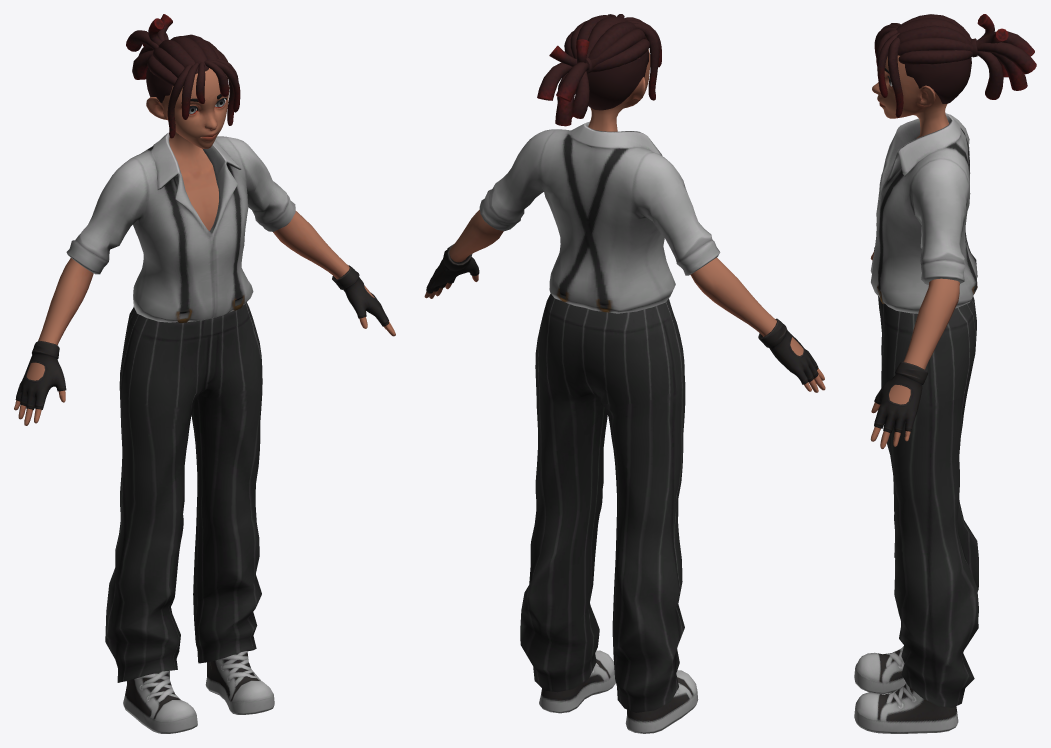
The model's file is StaffRoxy_Mesh.obj.
3 views of the same model, side by side, from view 1: azimuth 30°, elevation 25°; view 2: azimuth 150°, elevation 25°; view 3: azimuth 270°, elevation 25° (orthographic). The views are drawn at different scales.
Parts seen in each view (by area): view 1: StaffRoxy_Mesh_0; view 2: StaffRoxy_Mesh_0; view 3: StaffRoxy_Mesh_0.
Boxes of the visible parts, left/top/right/bottom form: StaffRoxy_Mesh_0: left=14, top=14, right=395, bottom=733; StaffRoxy_Mesh_0: left=424, top=14, right=825, bottom=733; StaffRoxy_Mesh_0: left=854, top=14, right=1036, bottom=733.
Size of the model in its own units: 1.06 by 1.8 by 0.4334.
Materials: 1 (1 with a texture image).
